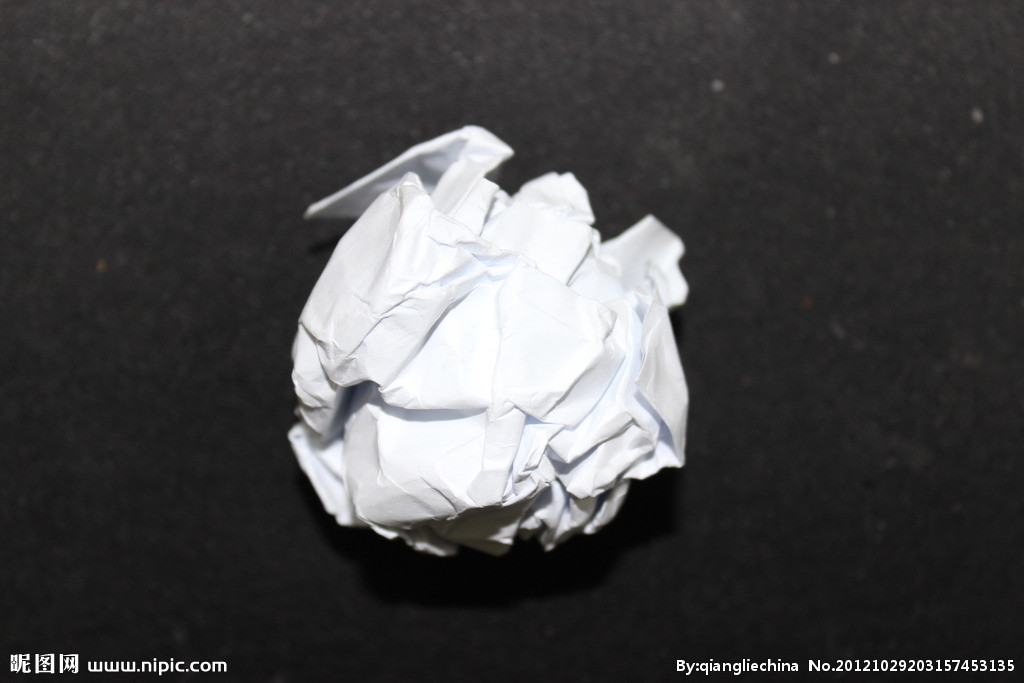flexible: (250, 125, 723, 564)
